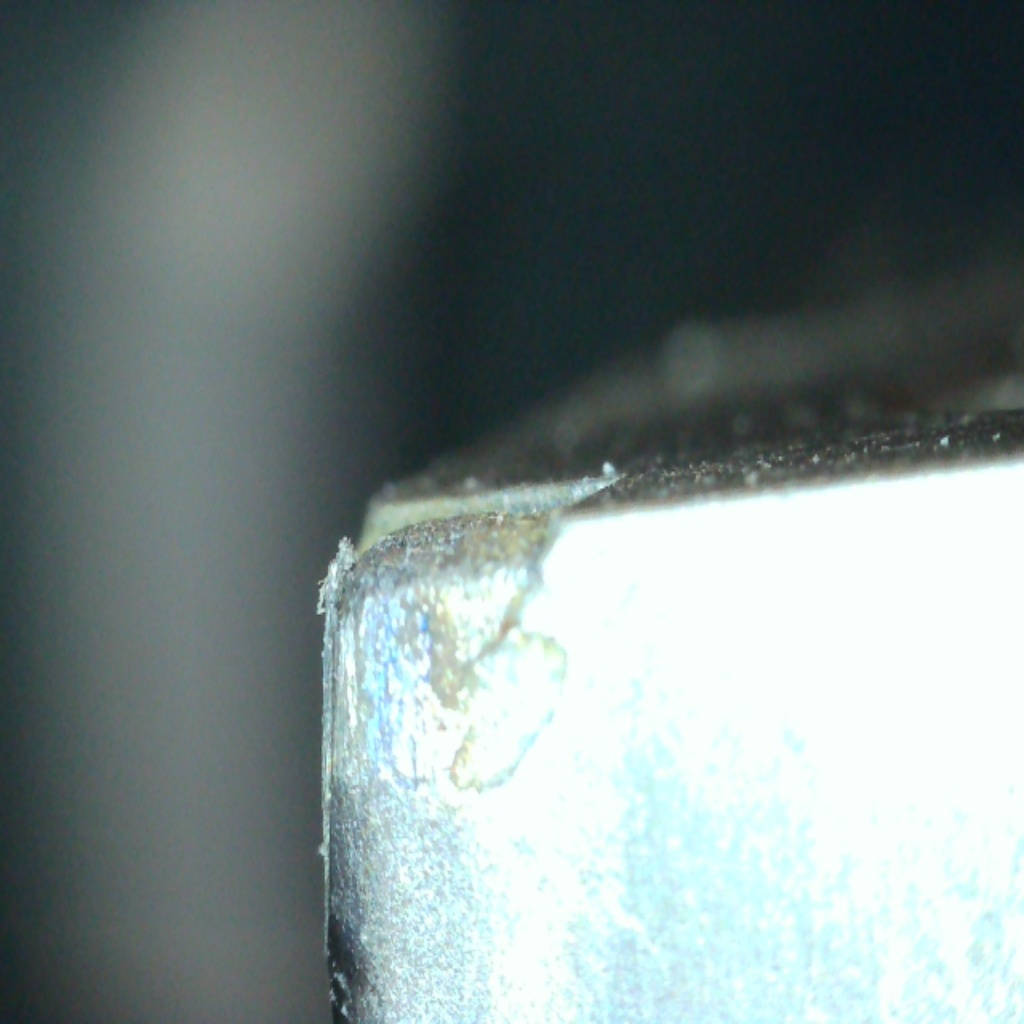flank_wear: (410, 573, 542, 686)
